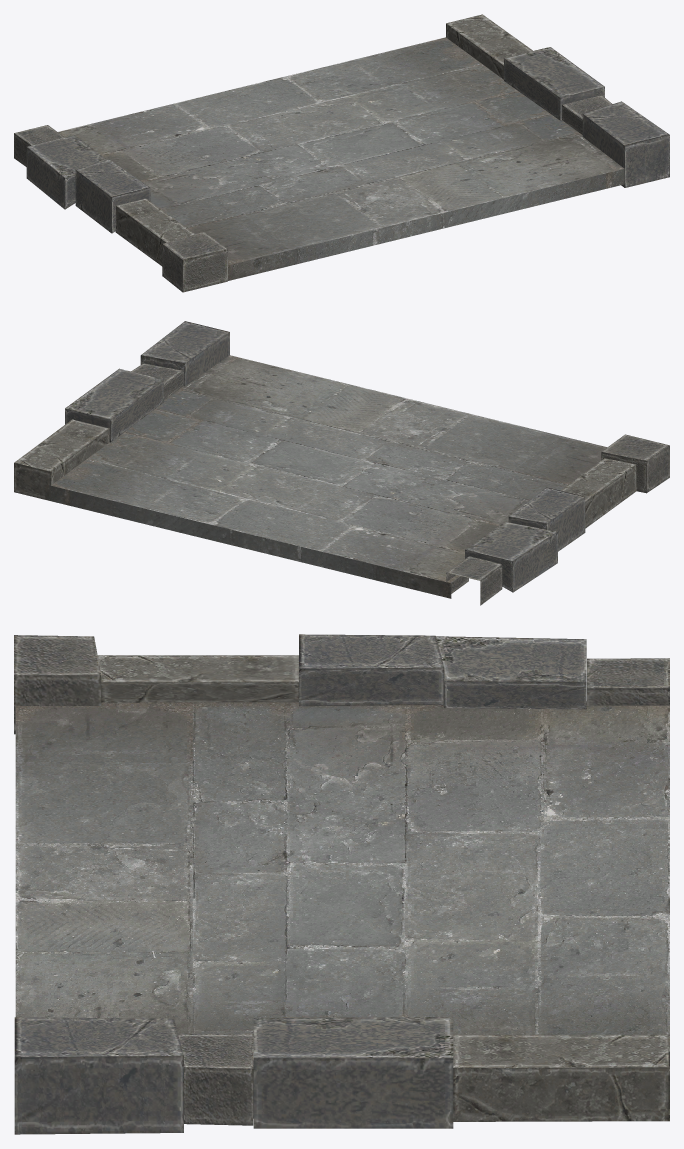
Rendered from bg_lut_lucastle_street03_sm_phs.FBX.
3 renders of one model, top to bottom at view 1: azimuth 30°, elevation 25°; view 2: azimuth 150°, elevation 25°; view 3: azimuth 270°, elevation 25°, orthographic. The views are drawn at different scales.
Parts seen in each view (by area): view 1: bg_lut_lucastle_street03_sm_phs; view 2: bg_lut_lucastle_street03_sm_phs; view 3: bg_lut_lucastle_street03_sm_phs.
Boxes of the visible parts, box(x1,y1,x2,y2) form: bg_lut_lucastle_street03_sm_phs: box(14, 14, 669, 292); bg_lut_lucastle_street03_sm_phs: box(14, 321, 669, 605); bg_lut_lucastle_street03_sm_phs: box(14, 634, 669, 1134).
Size of the model in its own units: 404 by 33.3 by 257.
